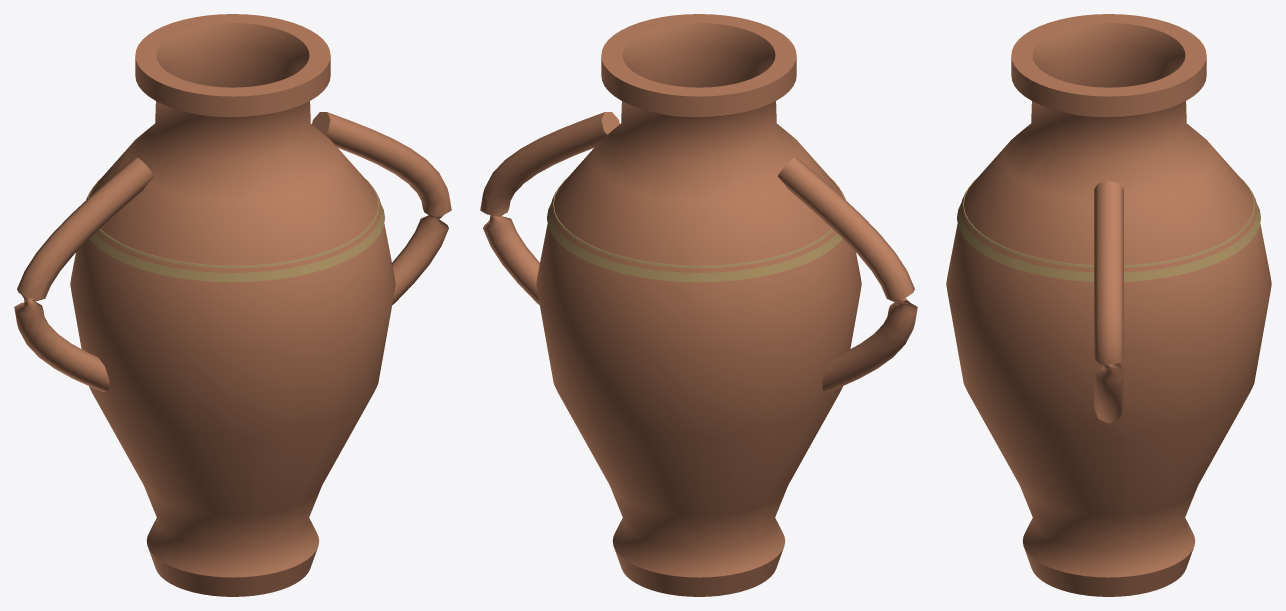
Rendered from desktop.glb.
3 renders of one model, left to right at view 1: azimuth 30°, elevation 25°; view 2: azimuth 150°, elevation 25°; view 3: azimuth 270°, elevation 25°, orthographic.
Size of the model in its own units: 0.894 by 1 by 0.58.
Materials: 1 (1 with a texture image).
